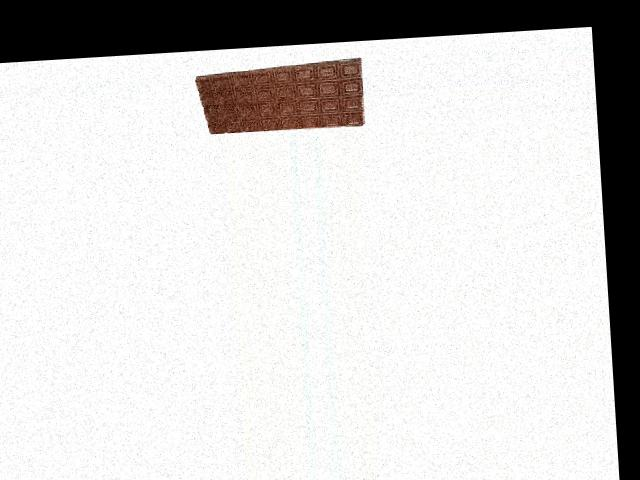chocolate: (192, 59, 367, 136)
